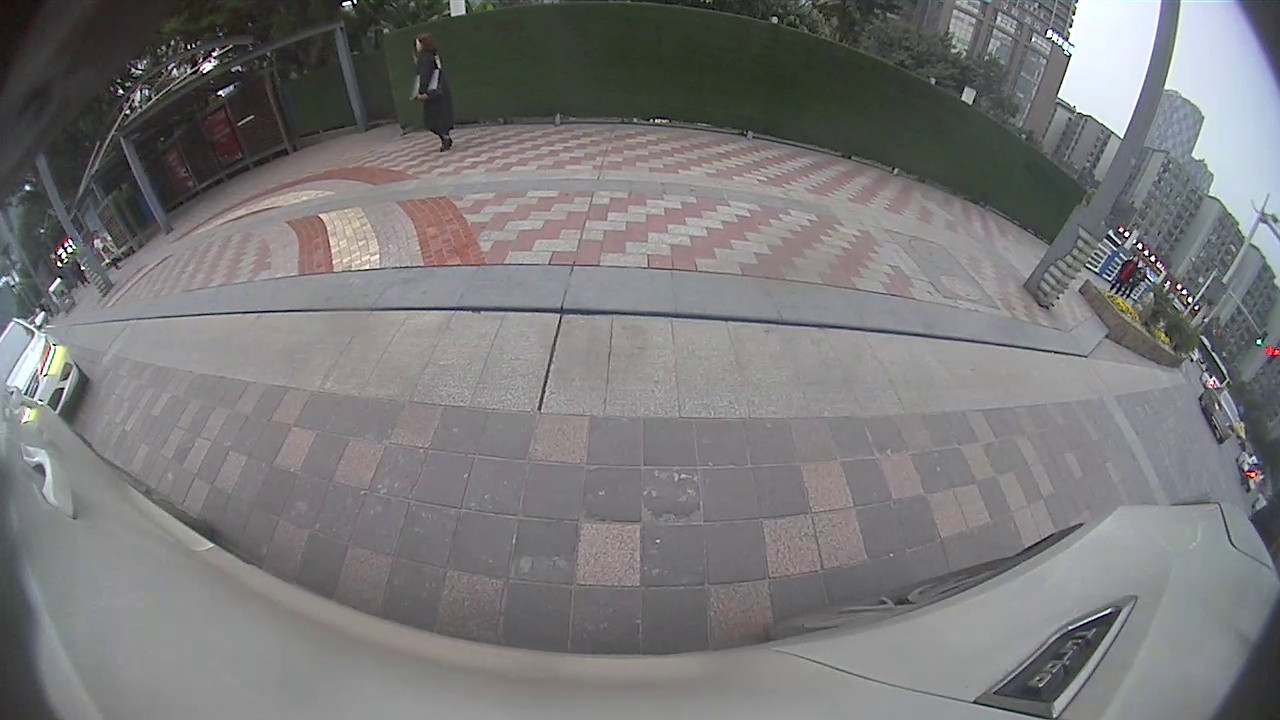car: (2, 312, 89, 419)
person: (414, 33, 453, 153)
